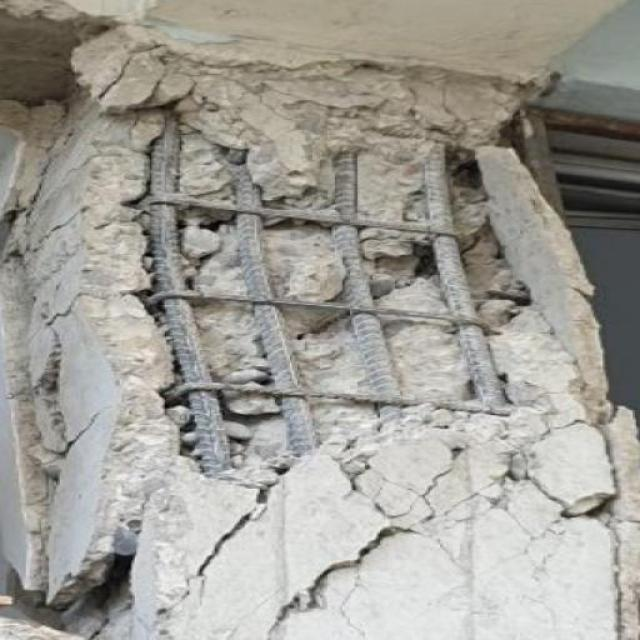D0w0: (74, 26, 599, 508)
